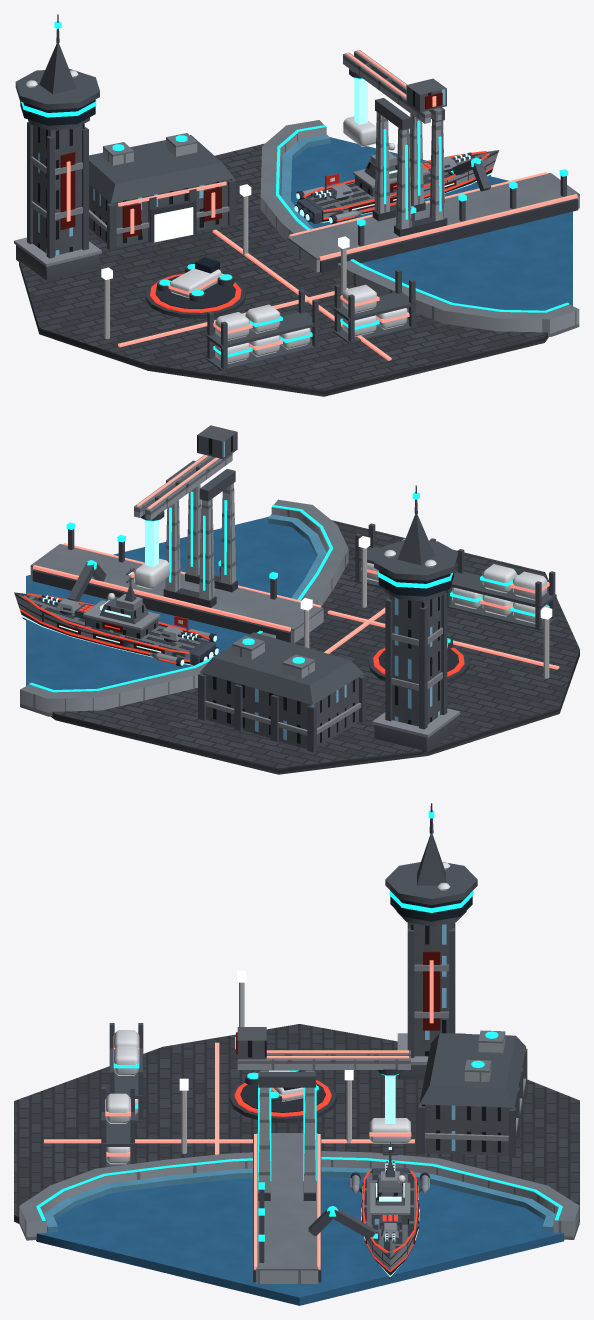
Rendered from port_scifi_red.glb.
3 renders of one model, top to bottom at view 1: azimuth 30°, elevation 25°; view 2: azimuth 150°, elevation 25°; view 3: azimuth 270°, elevation 25°, orthographic. The views are drawn at different scales.
Parts seen in each view (by area): view 1: port_scifi_red; view 2: port_scifi_red; view 3: port_scifi_red.
Part boxes in pixels (x1,y1,x2,y2): port_scifi_red: (14,14,579,396); port_scifi_red: (14,425,579,774); port_scifi_red: (14,803,579,1305).
Size of the model in its own units: 1.58 by 0.72 by 1.37.
9 materials, 1 textured.
